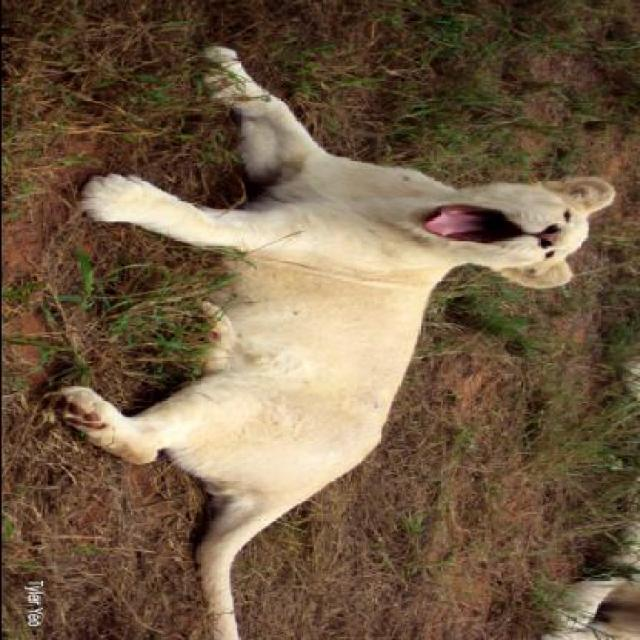Lion: (2, 36, 623, 638)
